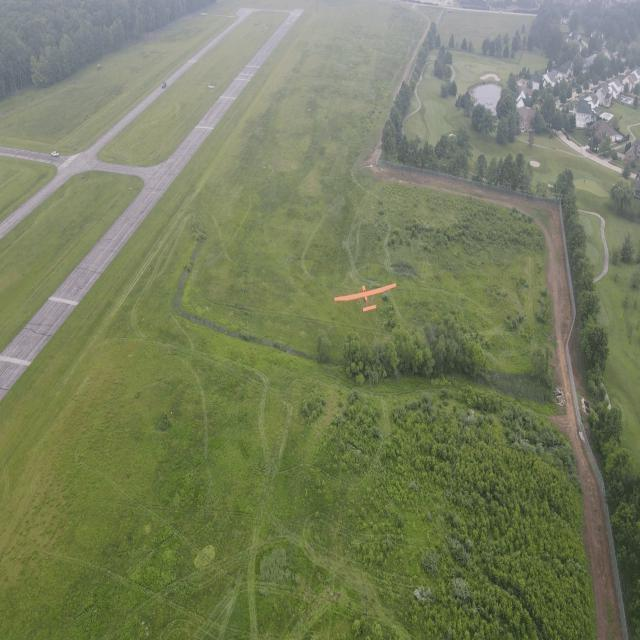iha: (354, 266, 370, 327)
